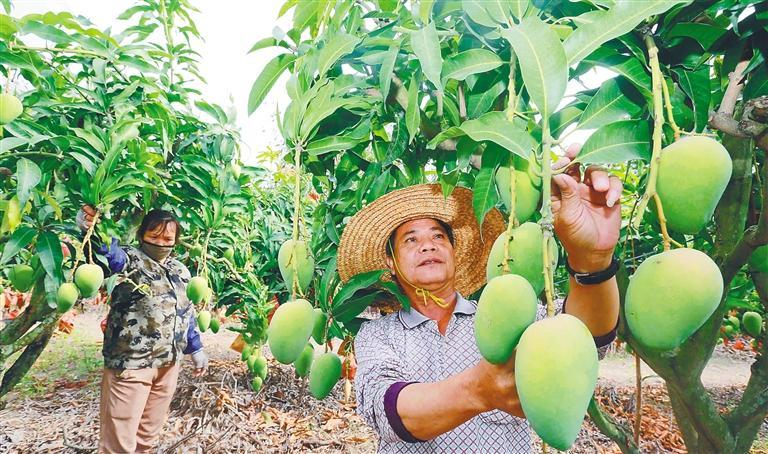apple: (642, 132, 733, 234), (267, 299, 315, 363), (74, 262, 104, 298), (56, 282, 80, 312)
